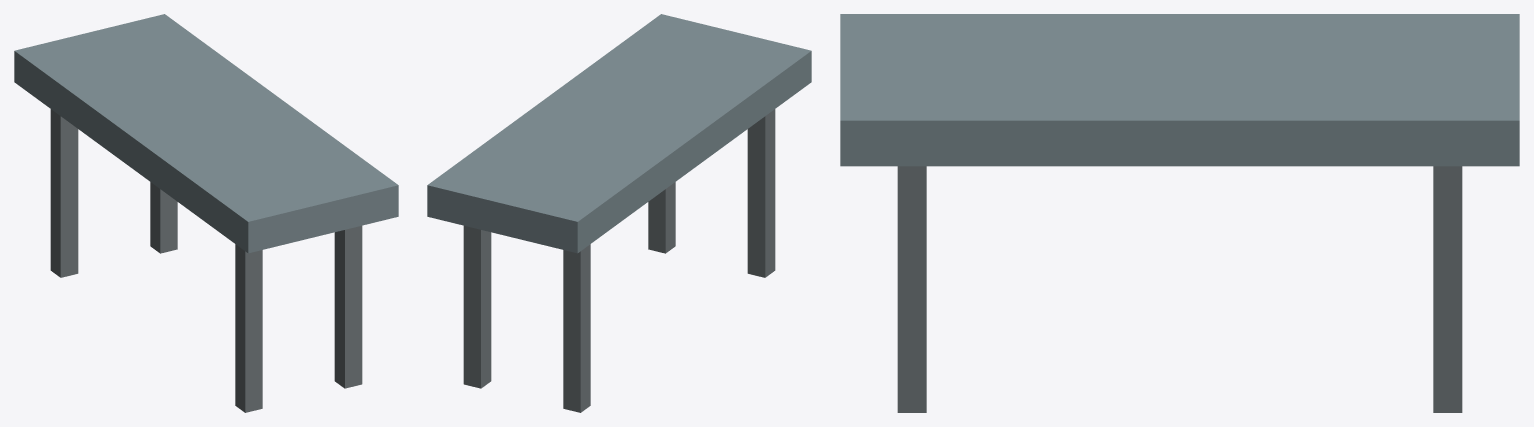
Rendered from exam_table.glb.
3 renders of one model, left to right at view 1: azimuth 30°, elevation 25°; view 2: azimuth 150°, elevation 25°; view 3: azimuth 270°, elevation 25°, orthographic. The views are drawn at different scales.
Parts seen in each view (by area): view 1: body; view 2: body; view 3: body.
Part boxes in pixels (x1=…): body: x1=14, y1=14, x2=398, y2=412; body: x1=427, y1=14, x2=811, y2=412; body: x1=840, y1=14, x2=1519, y2=412.
Bounding box in the file's own units: 0.65 × 0.865 × 1.75.
